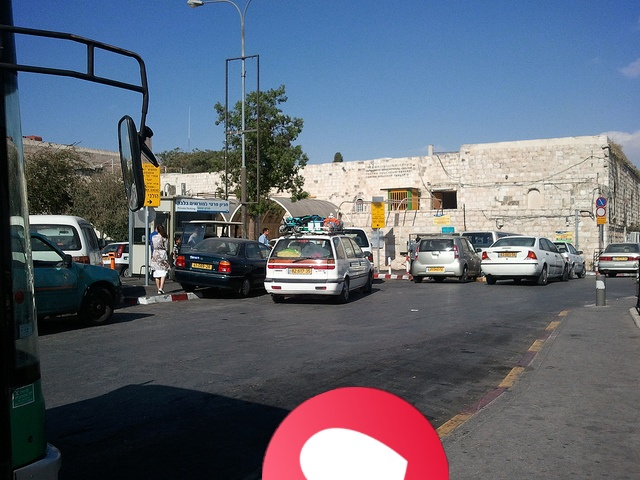love: (262, 387, 449, 480)
